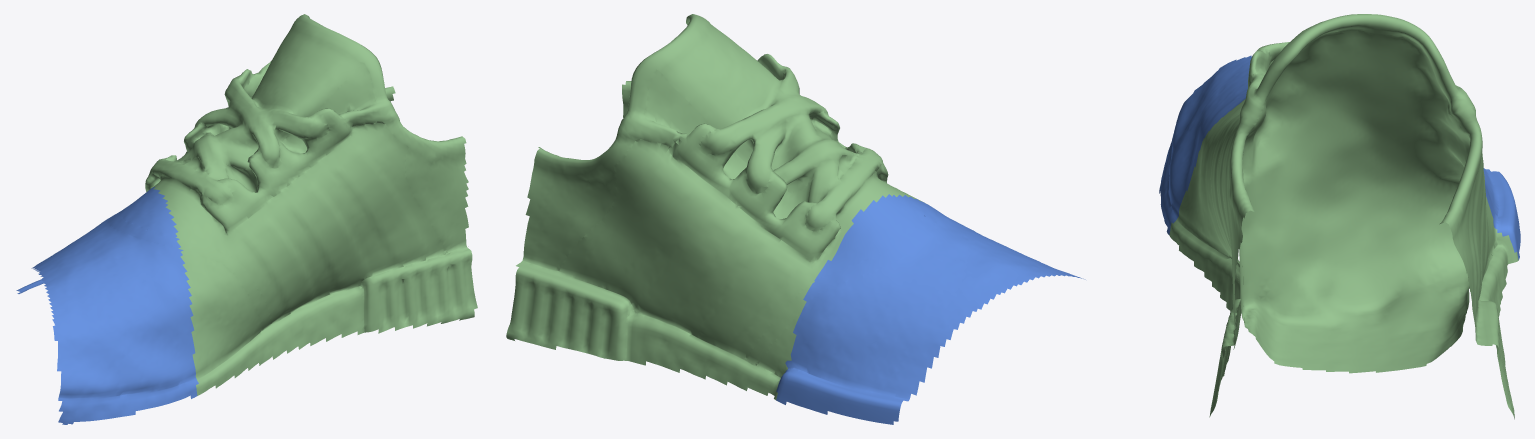
The model's file is multimaterial_test.glb.
The picture shows the model from 3 angles, left to right: view 1: azimuth 30°, elevation 25°; view 2: azimuth 150°, elevation 25°; view 3: azimuth 270°, elevation 25°; orthographic projection. The views are drawn at different scales.
Visible parts, largest first — view 1: lowres; view 2: lowres; view 3: lowres.
Part boxes in pixels (x1=…): lowres: x1=16, y1=14, x2=477, y2=424; lowres: x1=506, y1=14, x2=1085, y2=424; lowres: x1=1159, y1=14, x2=1520, y2=419.
Bounding box in the file's own units: 101 × 59.76 × 55.8.
